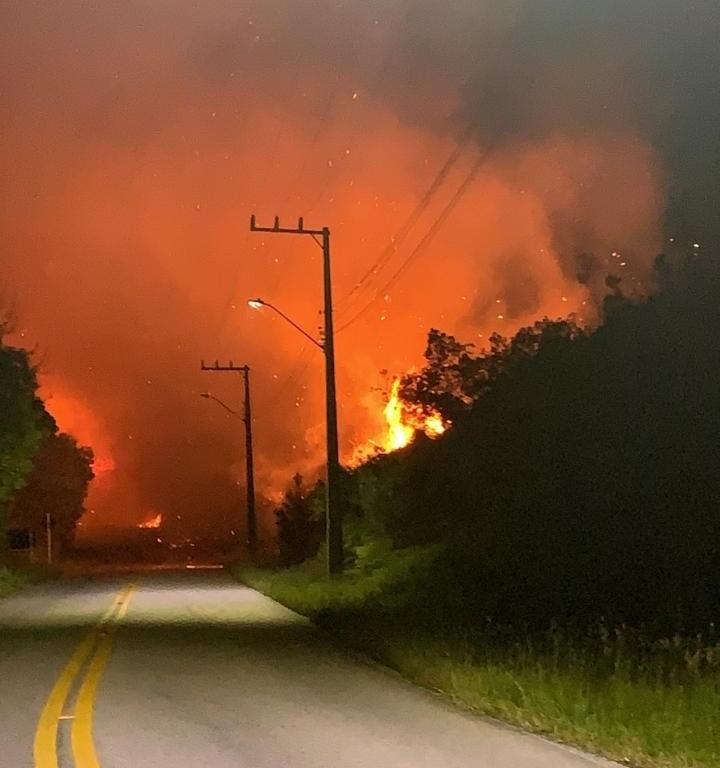Fire: (353, 364, 452, 467), (136, 512, 164, 532)
